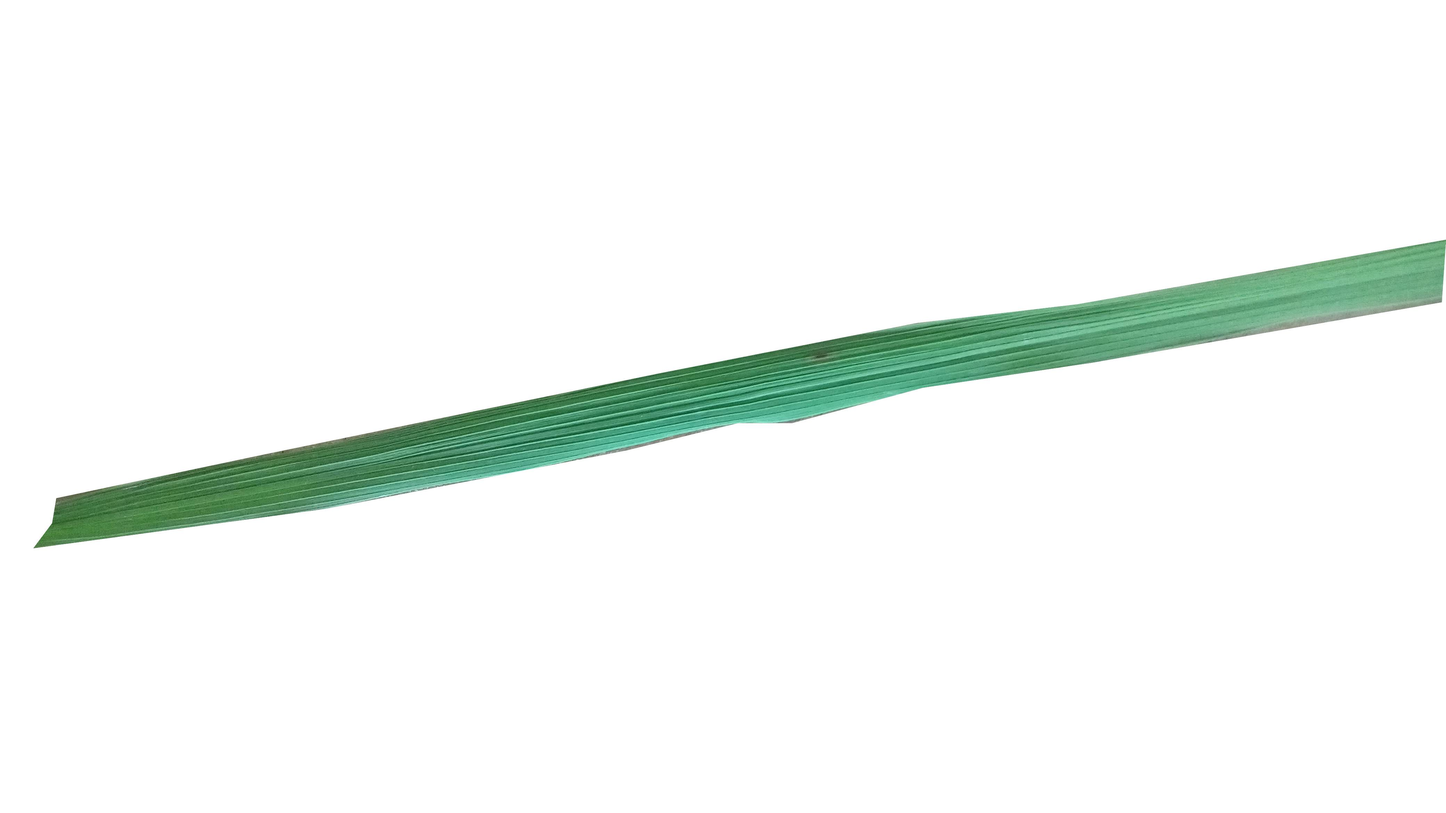Brown spot: (808, 346, 836, 368)
